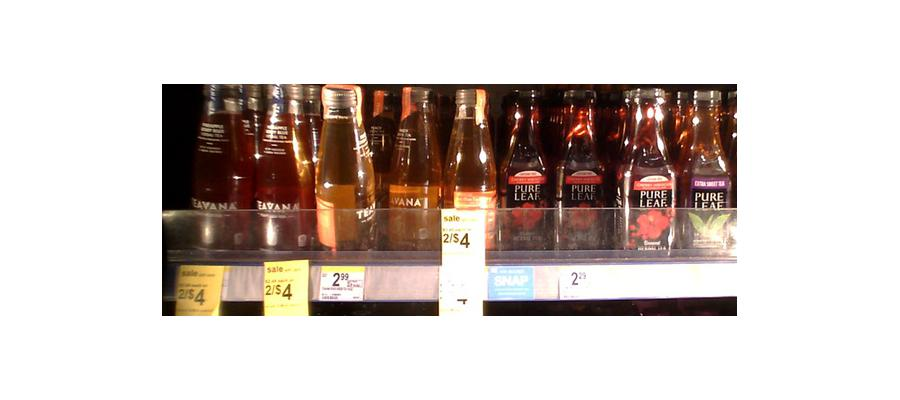bottle: (311, 83, 377, 257), (441, 86, 496, 284), (186, 81, 250, 251), (252, 80, 312, 251), (383, 86, 441, 250), (621, 85, 675, 252), (559, 92, 617, 247), (680, 77, 731, 248), (500, 87, 551, 250)
